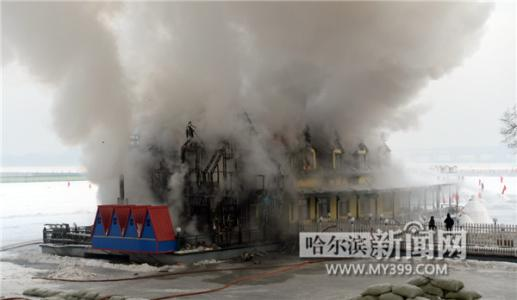smoke: (57, 3, 452, 225)
